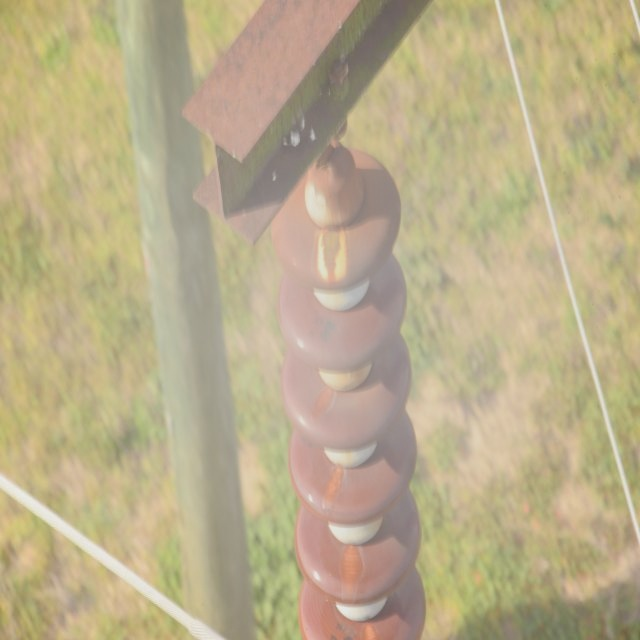insulator: (270, 147, 425, 640)
